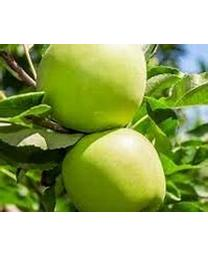apple: (36, 44, 147, 134), (63, 128, 167, 211)
